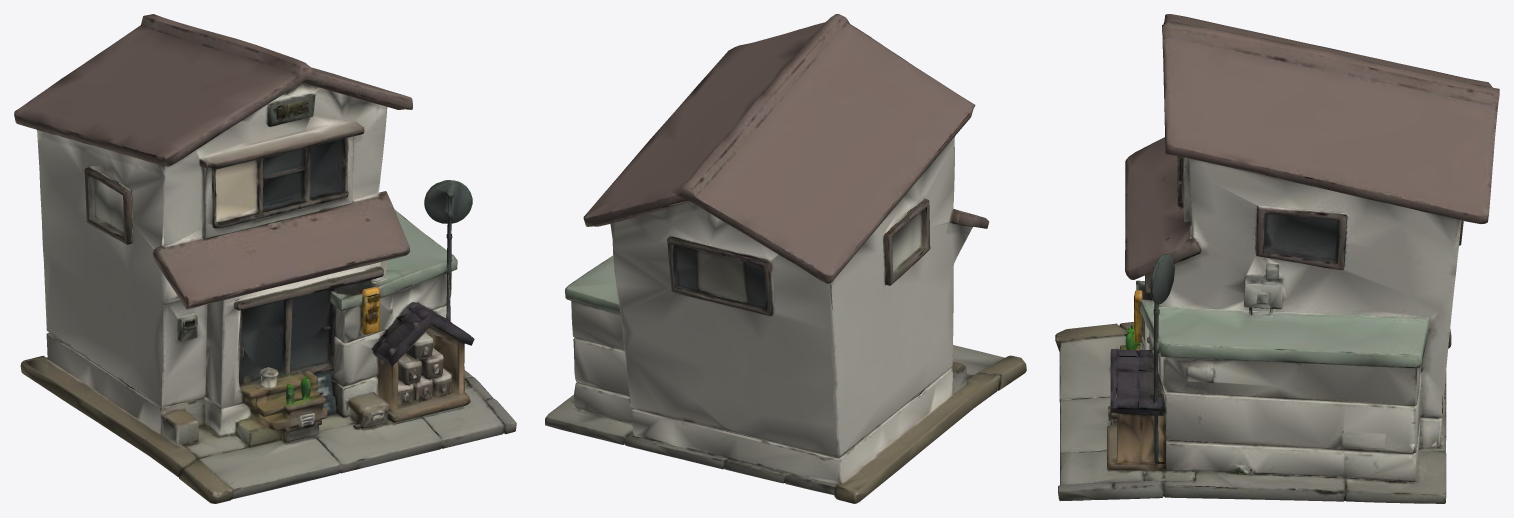
The model's file is building7.glb.
3 views of the same model, side by side, from view 1: azimuth 30°, elevation 25°; view 2: azimuth 150°, elevation 25°; view 3: azimuth 270°, elevation 25° (orthographic). The views are drawn at different scales.
Visible parts, largest first — view 1: lo; view 2: lo; view 3: lo.
Boxes of the visible parts, <box> form: lo: <box>14,14,516,503</box>; lo: <box>545,14,1026,503</box>; lo: <box>1055,14,1499,503</box>.
Size of the model in its own units: 0.8922 by 0.9795 by 0.9994.
1 material, 1 textured.
